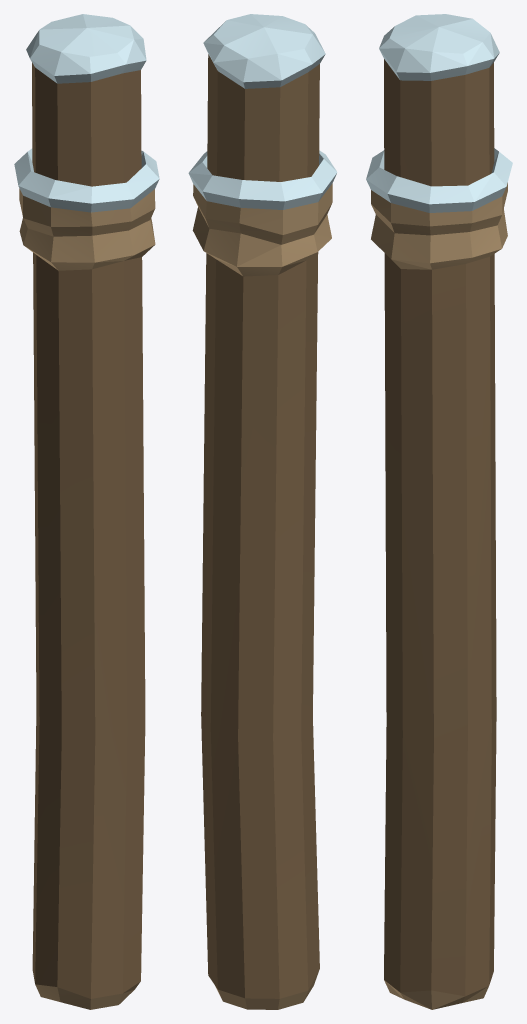
Rendered from Palo_Muelle02.glb.
The picture shows the model from 3 angles, left to right: view 1: azimuth 30°, elevation 25°; view 2: azimuth 150°, elevation 25°; view 3: azimuth 270°, elevation 25°; orthographic projection.
Visible parts, largest first — view 1: SM_Prop_Dock_Pole_02_Snow; view 2: SM_Prop_Dock_Pole_02_Snow; view 3: SM_Prop_Dock_Pole_02_Snow.
Boxes of the visible parts, bbox=[...] form: SM_Prop_Dock_Pole_02_Snow: bbox=[14, 14, 159, 1009]; SM_Prop_Dock_Pole_02_Snow: bbox=[188, 14, 337, 1009]; SM_Prop_Dock_Pole_02_Snow: bbox=[366, 14, 512, 1009].
Size of the model in its own units: 0.6213 by 4.49 by 0.6164.
Materials: 1 (1 with a texture image).
